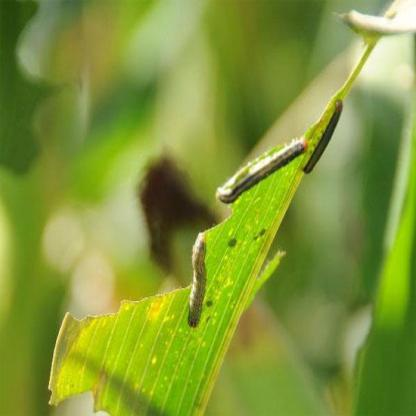armyworm: (217, 136, 311, 214), (305, 96, 346, 178), (184, 227, 214, 333)
